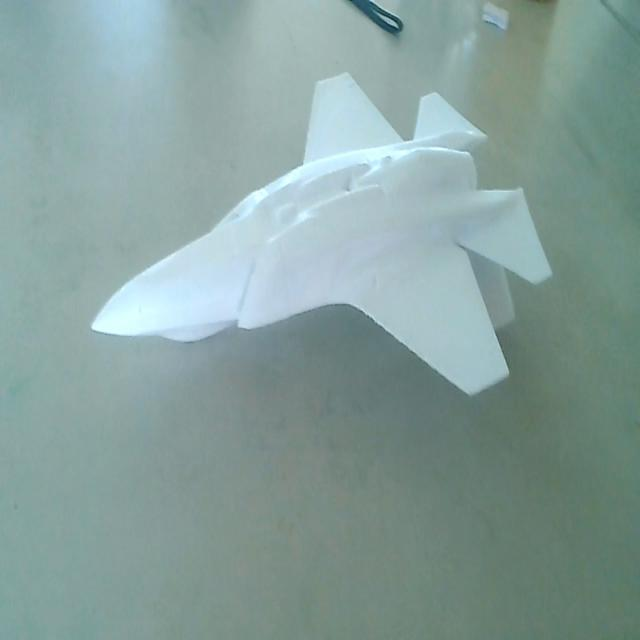Jet: (89, 67, 552, 405)
